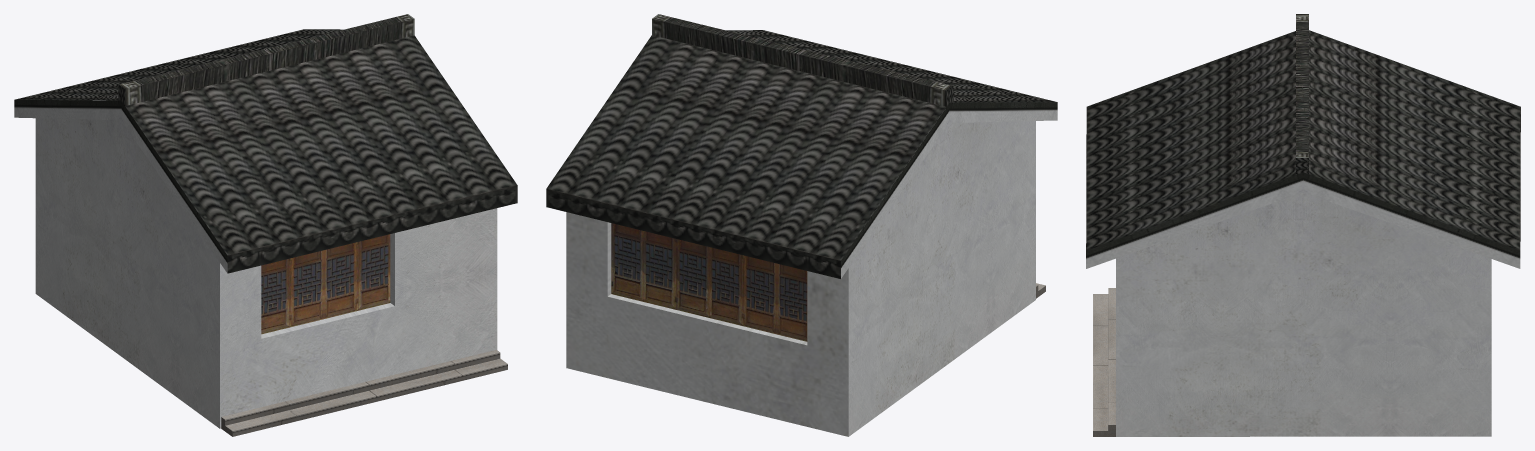
File: Building_MinJu03_01.FBX
3 renders of one model, left to right at view 1: azimuth 30°, elevation 25°; view 2: azimuth 150°, elevation 25°; view 3: azimuth 270°, elevation 25°, orthographic.
Visible parts, largest first — view 1: MinJu03_01; view 2: MinJu03_01; view 3: MinJu03_01.
Boxes of the visible parts, bbox=[...] form: MinJu03_01: bbox=[14, 14, 517, 436]; MinJu03_01: bbox=[546, 14, 1057, 436]; MinJu03_01: bbox=[1086, 14, 1520, 436].
Bounding box in the file's own units: 475 × 606 × 434.
